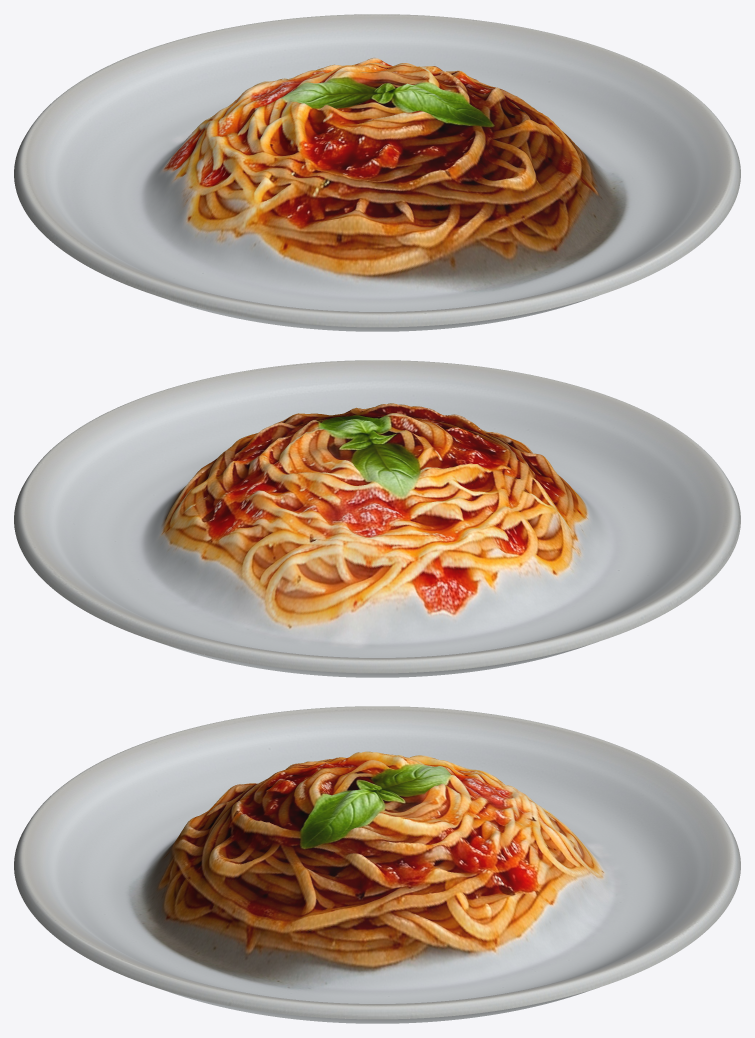
File: spaghetti-pomodoro.glb
3 views of the same model, one above another, from view 1: azimuth 30°, elevation 25°; view 2: azimuth 150°, elevation 25°; view 3: azimuth 270°, elevation 25° (orthographic).
Parts seen in each view (by area): view 1: spaghetti-pomodoro; view 2: spaghetti-pomodoro; view 3: spaghetti-pomodoro.
Boxes of the visible parts, <box> form: spaghetti-pomodoro: <box>14,14,740,331</box>; spaghetti-pomodoro: <box>14,360,740,677</box>; spaghetti-pomodoro: <box>14,706,740,1023</box>.
Size of the model in its own units: 0.27 by 0.053 by 0.27.
Materials: 2 (1 with a texture image).
